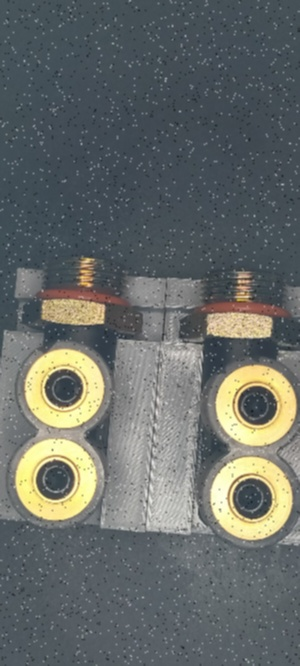bump: (33, 343, 59, 359), (246, 353, 269, 368), (213, 365, 233, 382)
